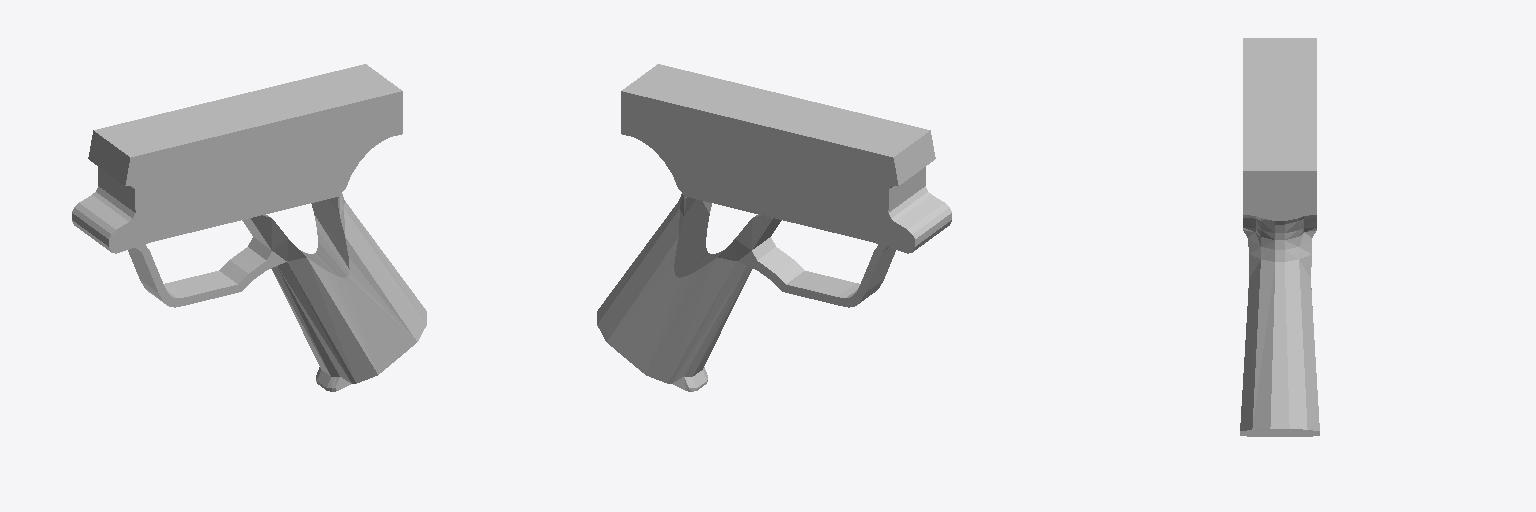
File: rap5.obj
3 renders of one model, left to right at view 1: azimuth 30°, elevation 25°; view 2: azimuth 150°, elevation 25°; view 3: azimuth 270°, elevation 25°, orthographic.
Visible parts, largest first — view 1: Plane.001_Plane.001; view 2: Plane.001_Plane.001; view 3: Plane.001_Plane.001.
Part boxes in pixels (bbox=[...]): Plane.001_Plane.001: bbox=[72, 64, 426, 391]; Plane.001_Plane.001: bbox=[597, 64, 951, 391]; Plane.001_Plane.001: bbox=[1240, 38, 1319, 436].
Bounding box in the file's own units: 2.13 × 1.8 × 0.4443.